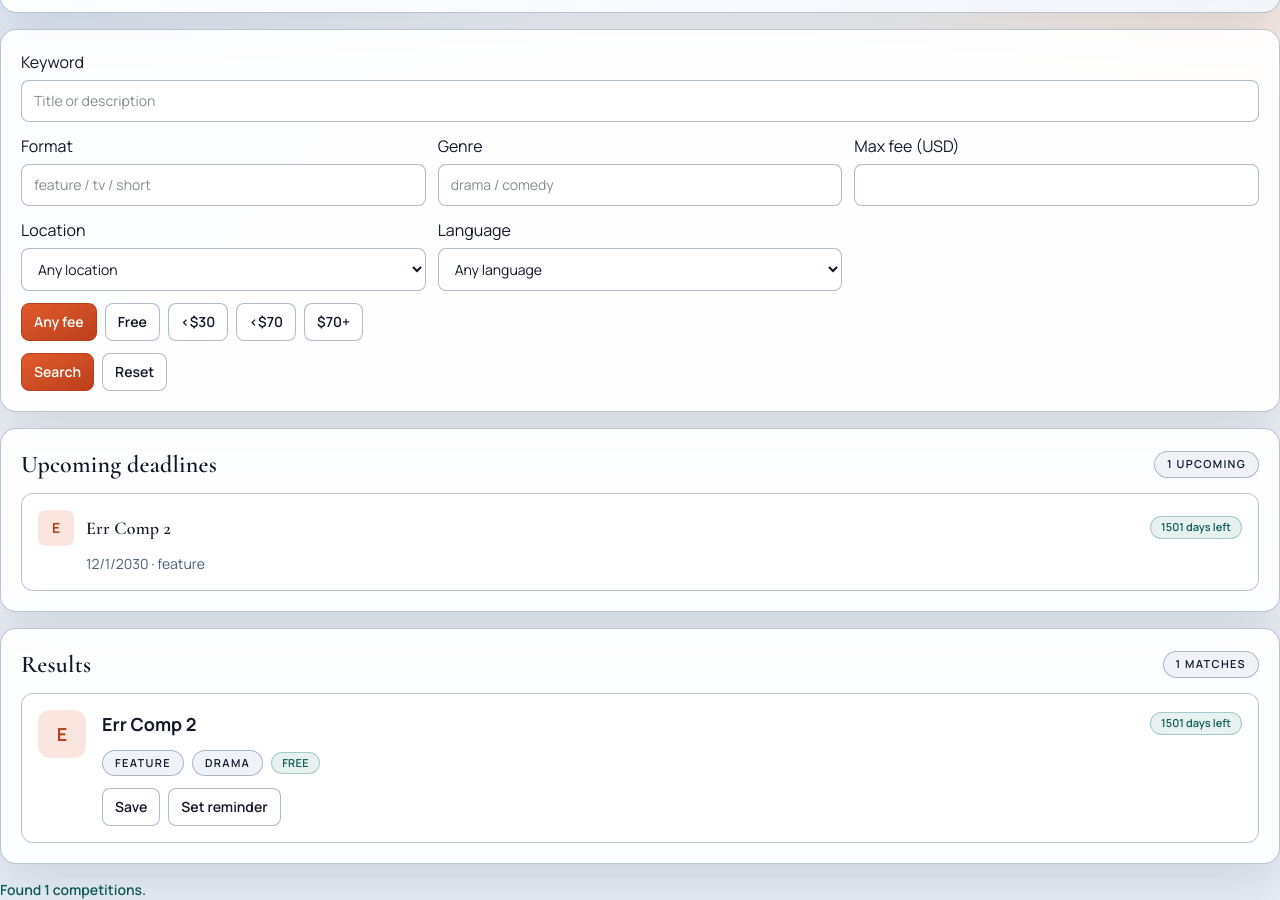
it: CompetitionsPage — branch coverage › sendReminder shows fallback error when response is not ok and body has no error
(page scrolled)
Expected: the text "Found 1 competitions." is shown, [0,880,146,899]
Click the button "Set reminder" at (224, 807), box [168,788,281,826]
(page scrolled)
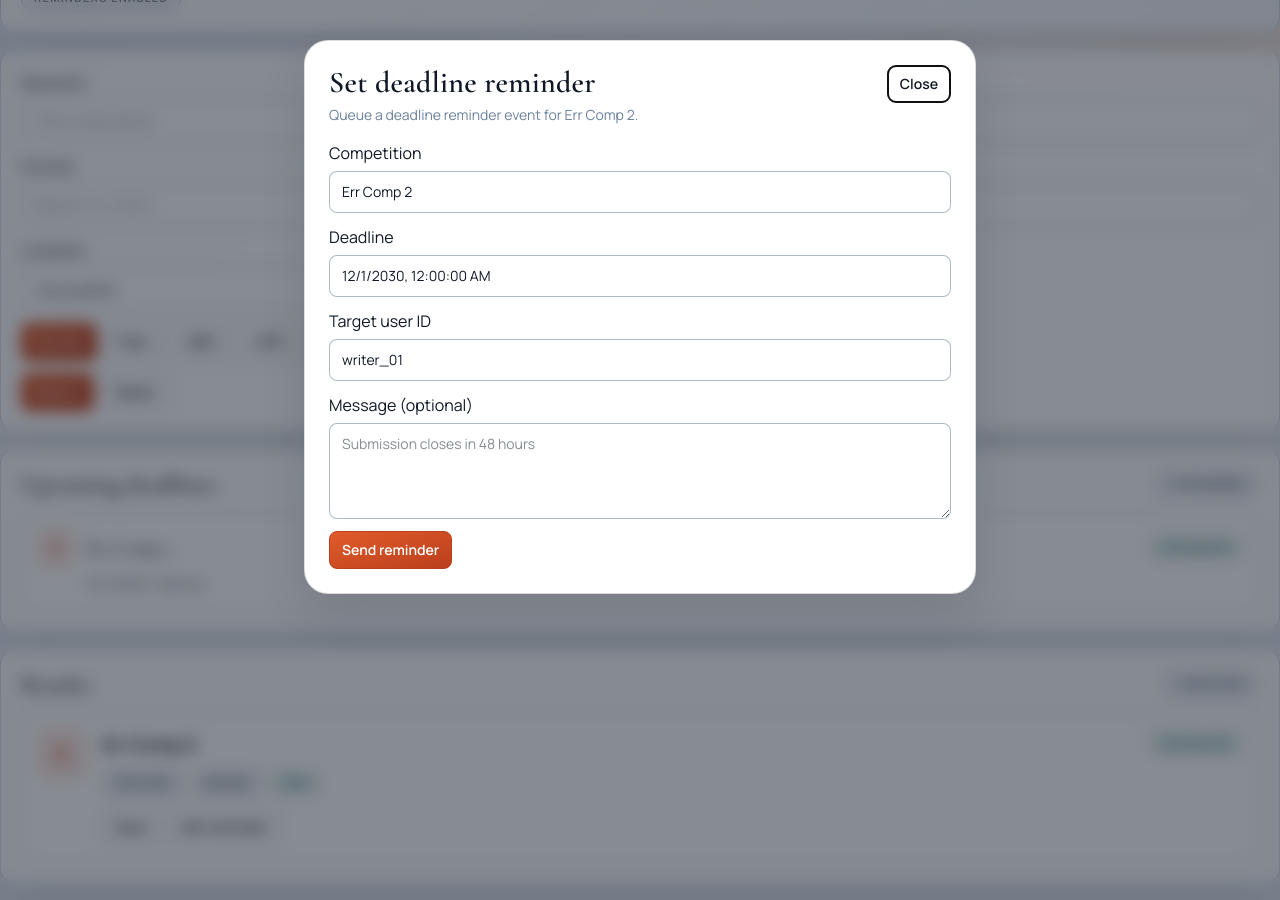
Click the button "Send reminder" at (391, 550), box [329,531,452,569]
(page scrolled)
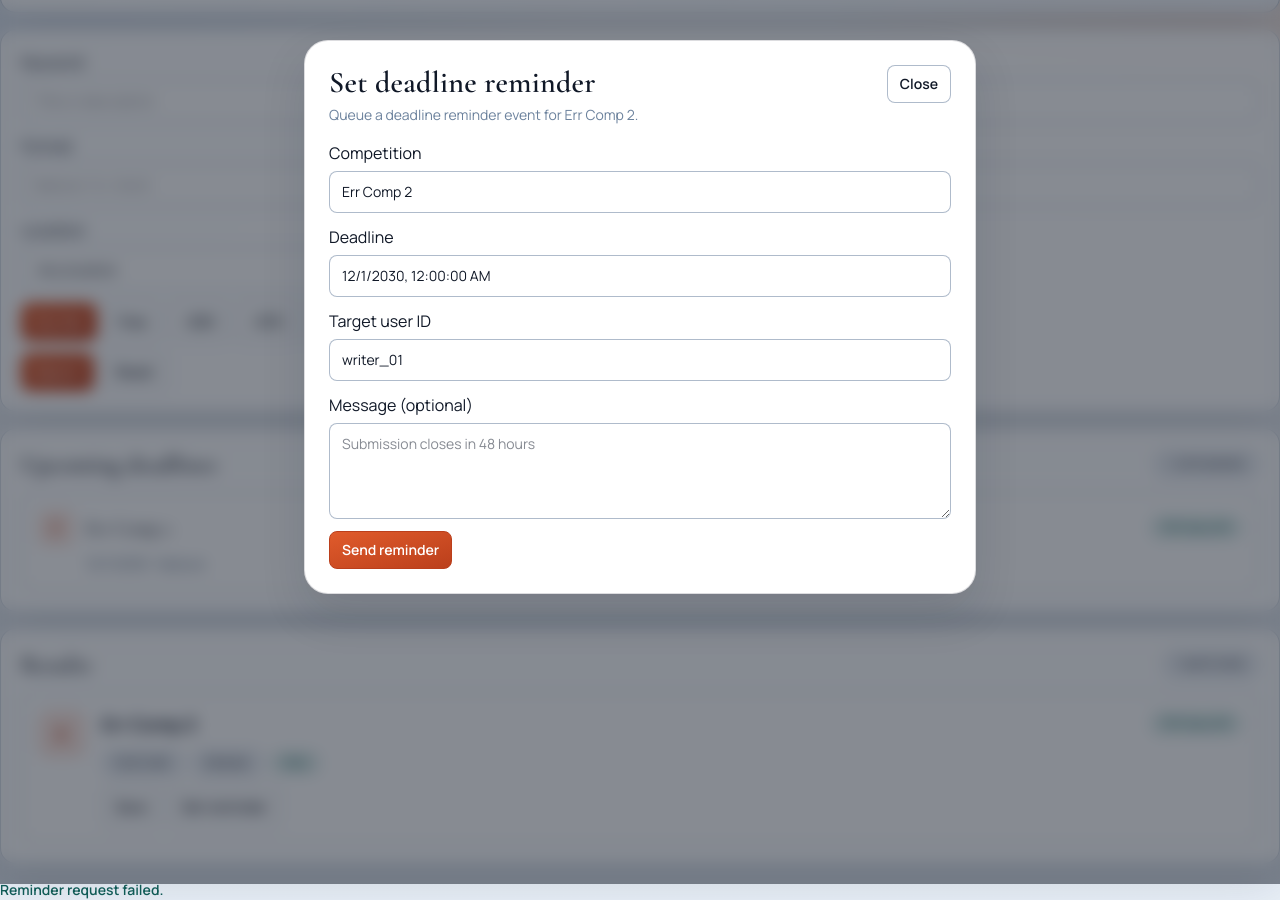
Expected: the text "Reminder request failed." is shown, [0,880,164,899]
